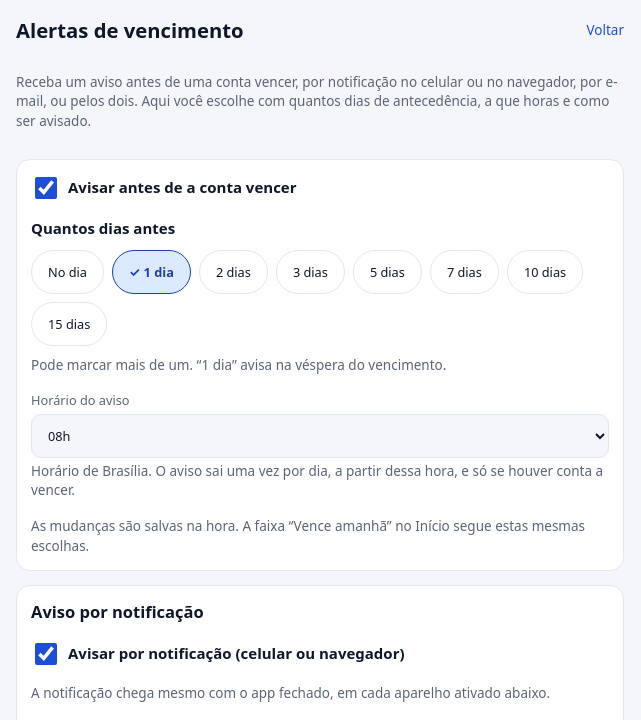
Test: Tela Alertas de vencimento: quando avisar › não deixa desmarcar o último prazo e explica
Click the button "1 dia" at (151, 272), box [112, 250, 191, 294]
(page scrolled)
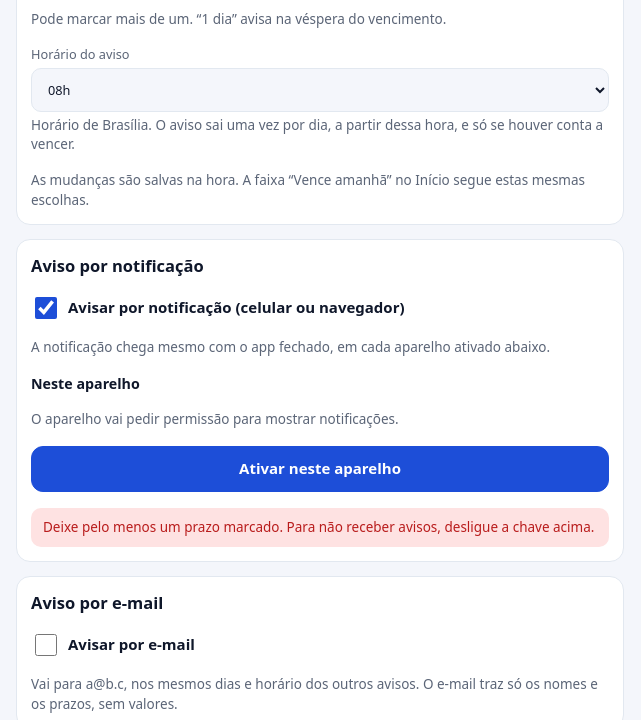
Expected: the message shows "pelo menos um prazo", [43, 518, 594, 536]
